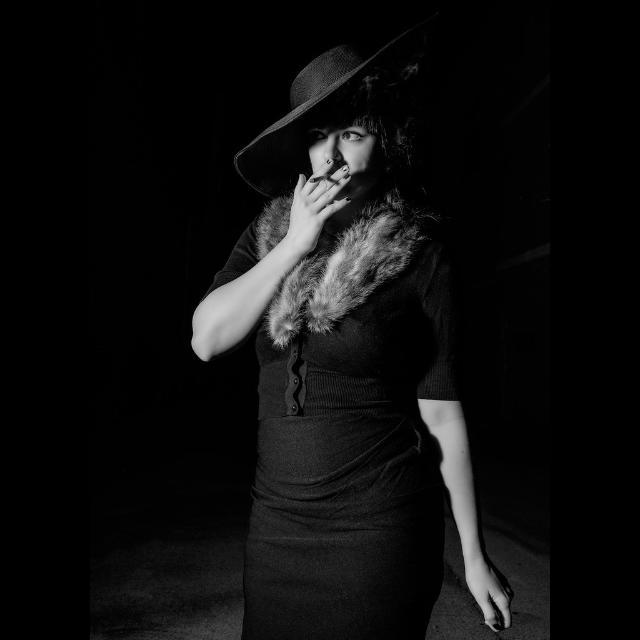rokok: (308, 170, 336, 186)
